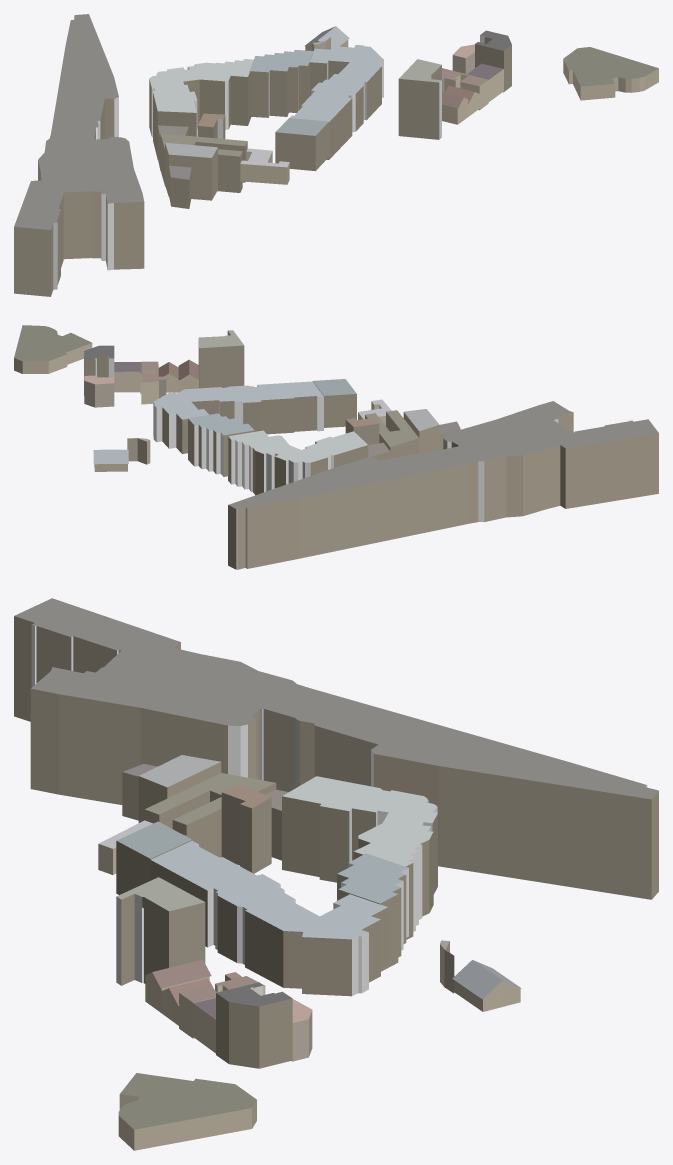
3 renders of one model, top to bottom at view 1: azimuth 30°, elevation 25°; view 2: azimuth 150°, elevation 25°; view 3: azimuth 270°, elevation 25°, orthographic. The views are drawn at different scales.
Visible parts, largest first — view 1: tuile; view 2: tuile; view 3: tuile.
Part boxes in pixels (box(x1,y1,x2,y2)): tuile: box(14, 14, 658, 296); tuile: box(14, 325, 658, 569); tuile: box(14, 598, 658, 1150).
Size of the model in its own units: 257 by 31.61 by 142.
